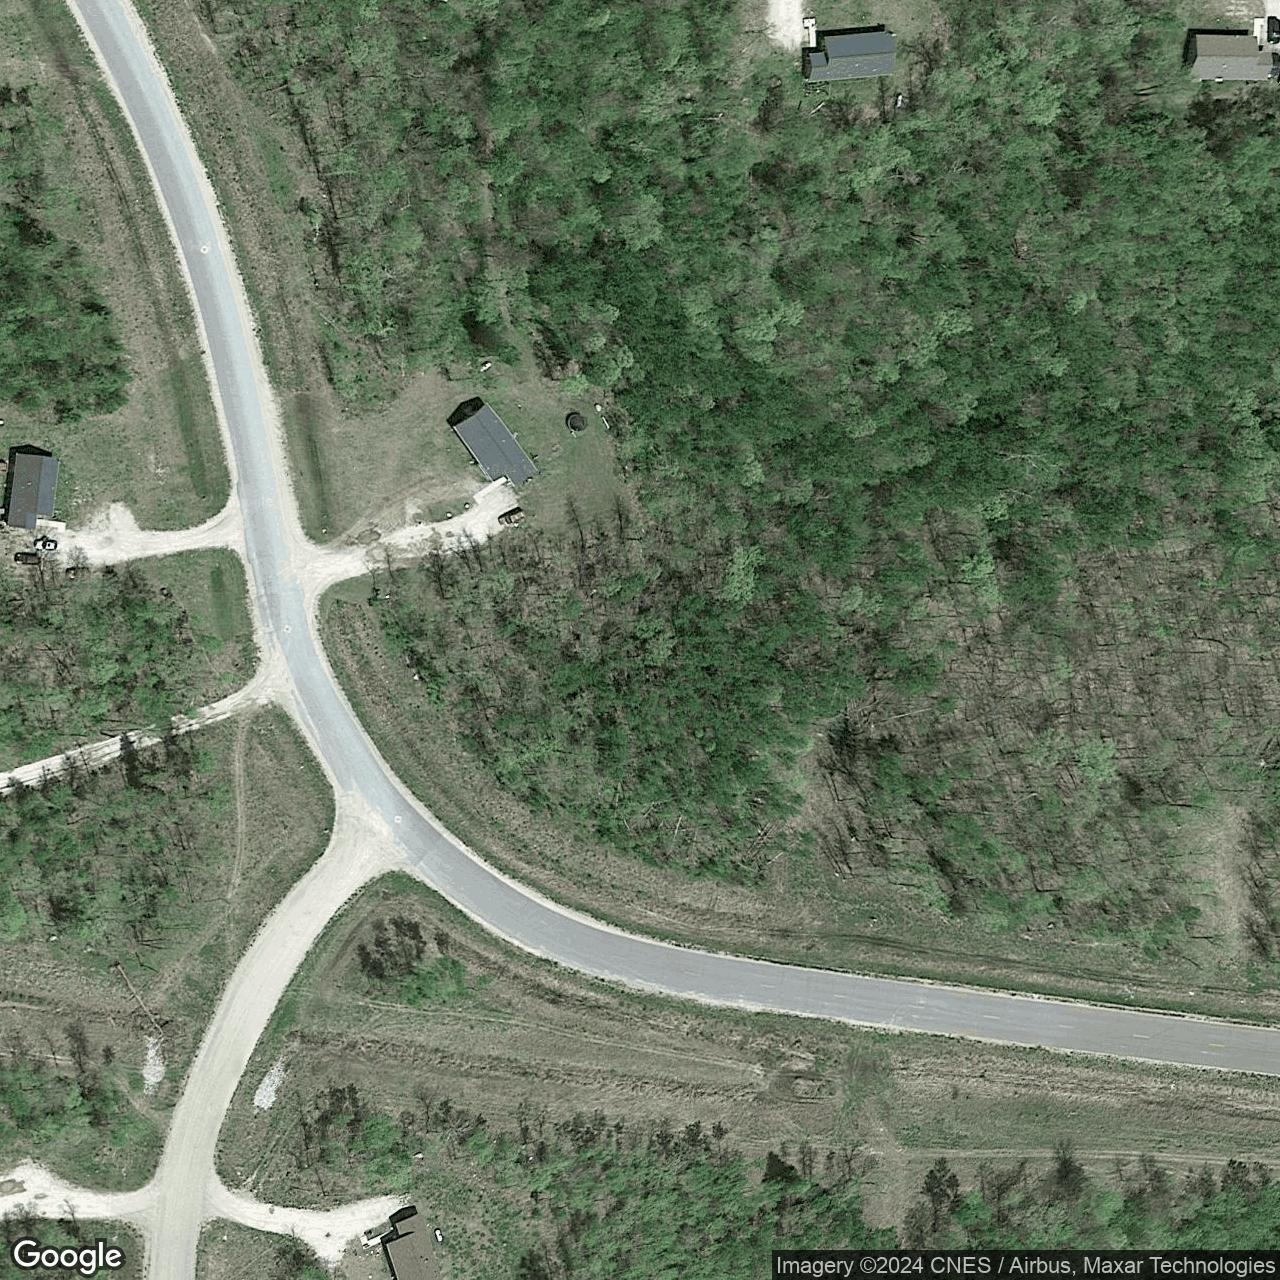House: (451, 400, 540, 489), (806, 30, 897, 81), (6, 452, 59, 532), (1186, 34, 1273, 81), (383, 1212, 442, 1280)
Propane: (476, 359, 495, 375), (433, 1226, 444, 1244), (894, 91, 903, 109)
